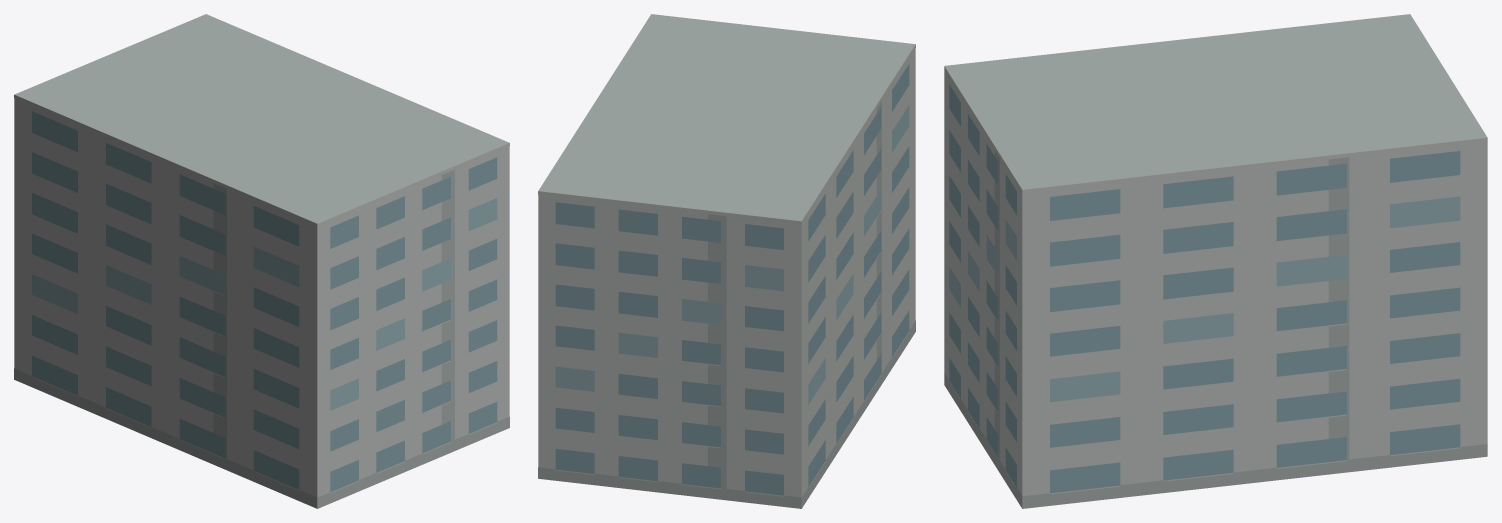
Rendered from survey-upis-32650946.glb.
3 views of the same model, side by side, from view 1: azimuth 30°, elevation 25°; view 2: azimuth 150°, elevation 25°; view 3: azimuth 270°, elevation 25° (orthographic). The views are drawn at different scales.
Parts seen in each view (by area): view 1: survey-upis-32650946.tmp; view 2: survey-upis-32650946.tmp; view 3: survey-upis-32650946.tmp.
Boxes of the visible parts, left/top/right/bottom form: survey-upis-32650946.tmp: left=14, top=14, right=509, bottom=508; survey-upis-32650946.tmp: left=538, top=14, right=915, bottom=508; survey-upis-32650946.tmp: left=944, top=14, right=1487, bottom=508.
Size of the model in its own units: 23.38 by 19.75 by 30.51.
